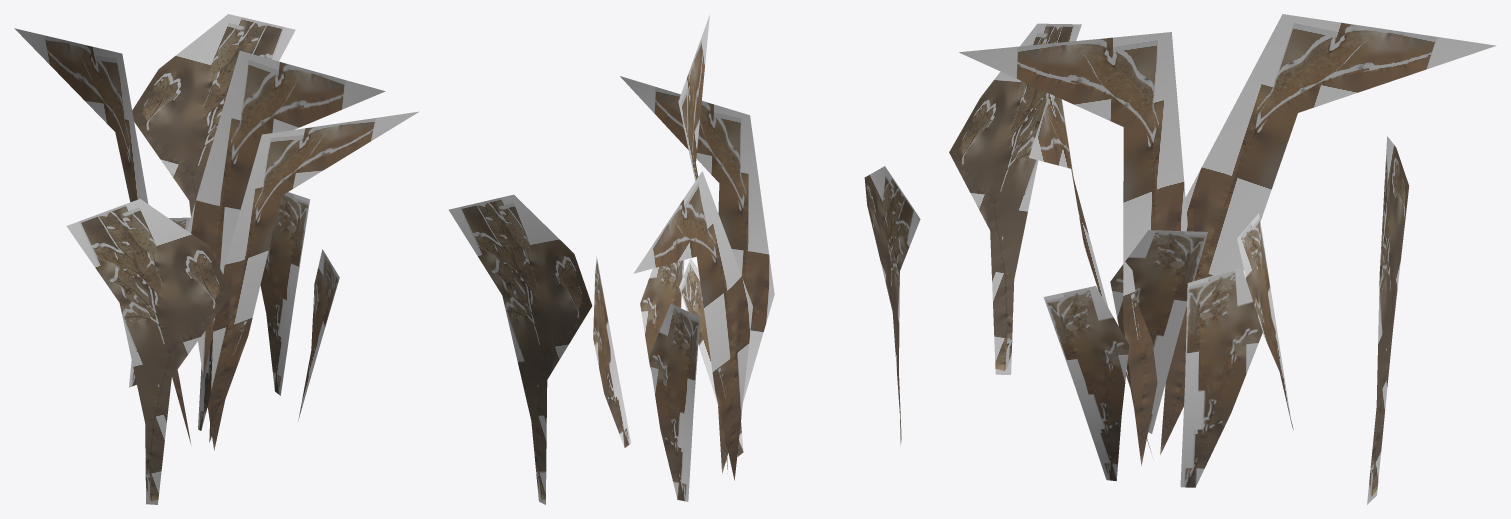
Rendered from Bush4_1.fbx.
3 views of the same model, side by side, from view 1: azimuth 30°, elevation 25°; view 2: azimuth 150°, elevation 25°; view 3: azimuth 270°, elevation 25° (orthographic). The views are drawn at different scales.
Parts seen in each view (by area): view 1: LOD0; view 2: LOD0; view 3: LOD0.
Part boxes in pixels (<box>): LOD0: <box>14,14,418,504</box>; LOD0: <box>449,14,920,504</box>; LOD0: <box>949,14,1496,504</box>.
Size of what is drawn, in the model's own units: 132 by 139 by 147.
